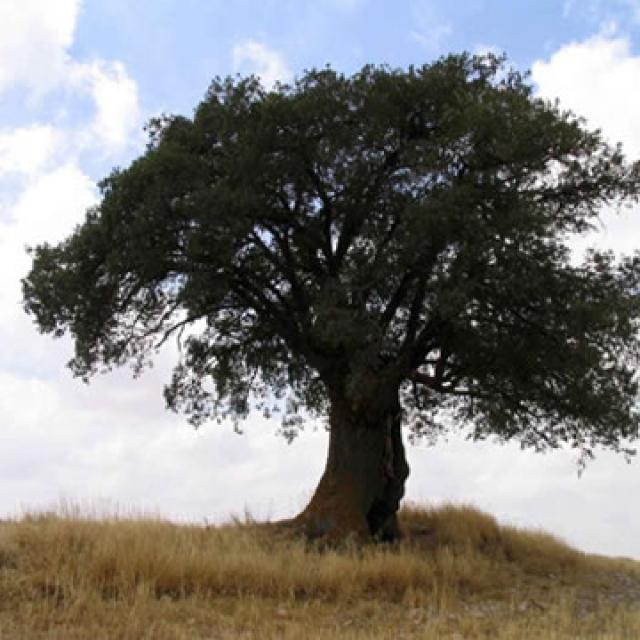roble: (22, 54, 638, 554)
